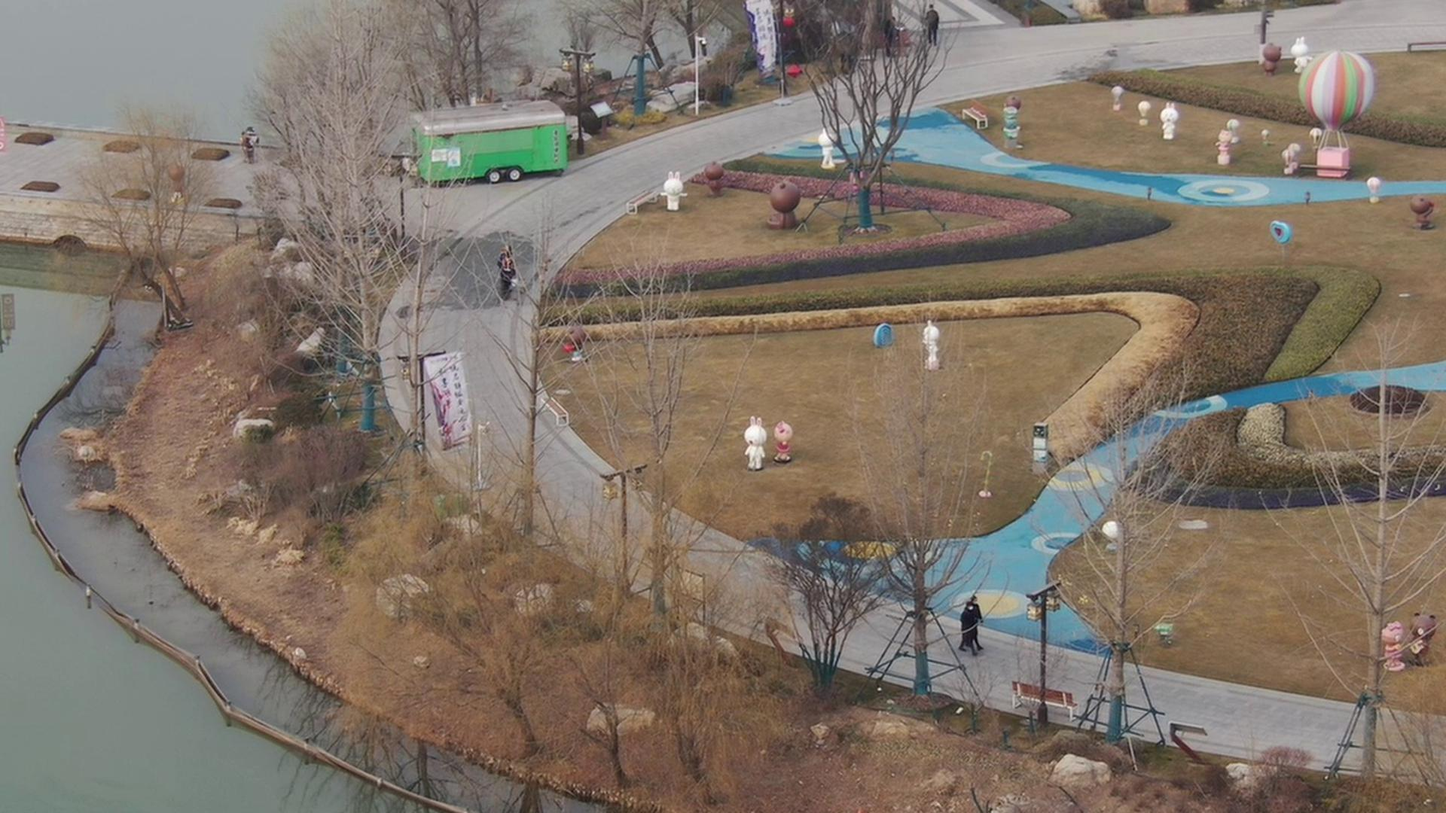class_2: (955, 589, 985, 659)
human: (493, 245, 517, 293), (918, 1, 942, 45)
